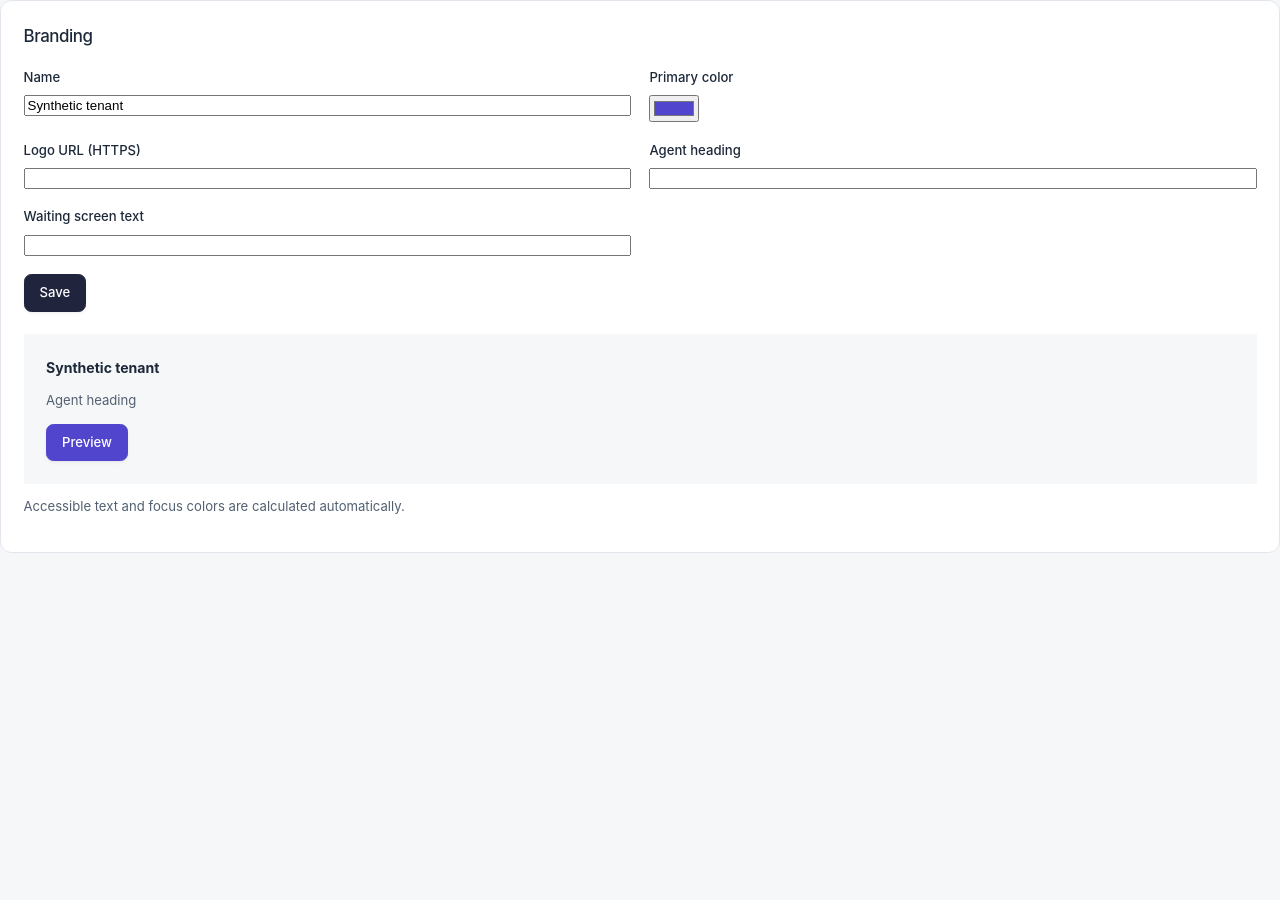
previews branding and validates URL and color settings before saving
Replace the text in the field labelled "Name" with "Synthetic brand" at {"x": 327, "y": 105}, box x1=24 y1=95 x2=631 y2=116
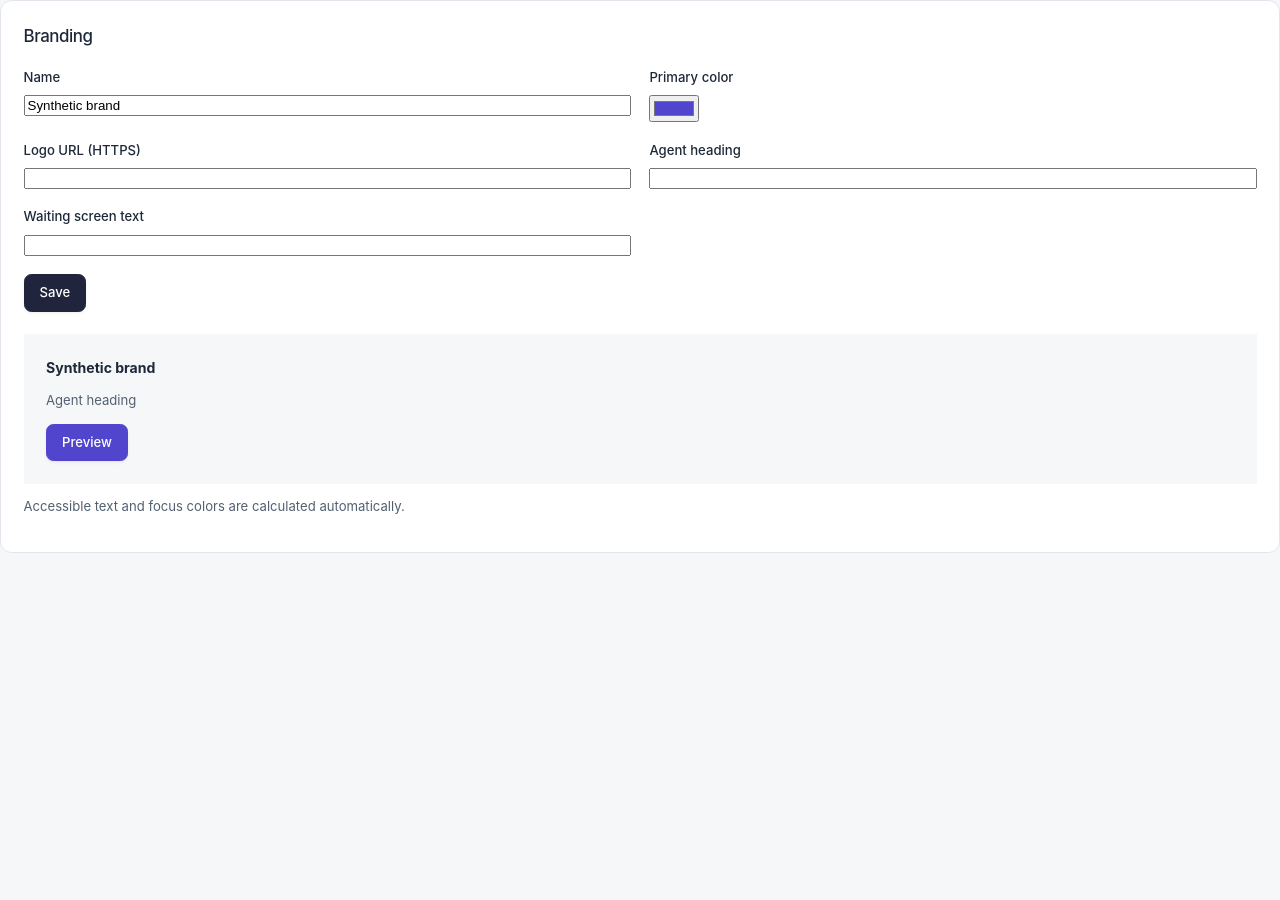
Type "#123456" into the colour field labelled "Primary color" at {"x": 674, "y": 108}, box x1=649 y1=95 x2=699 y2=122
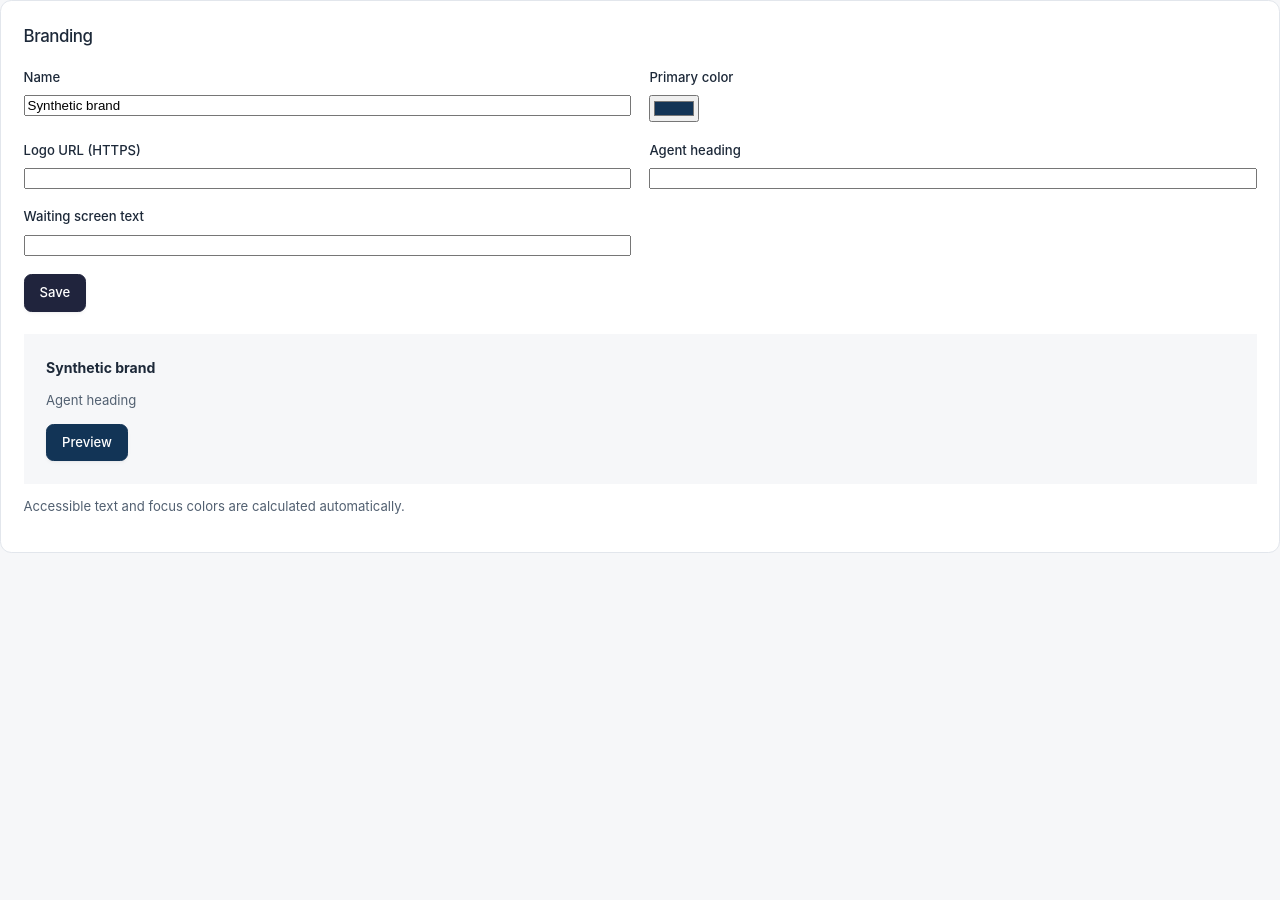
Type "https://assets.example.test/synthetic.svg" into the field labelled "Logo URL (HTTPS)" at {"x": 327, "y": 178}, box x1=24 y1=168 x2=631 y2=189
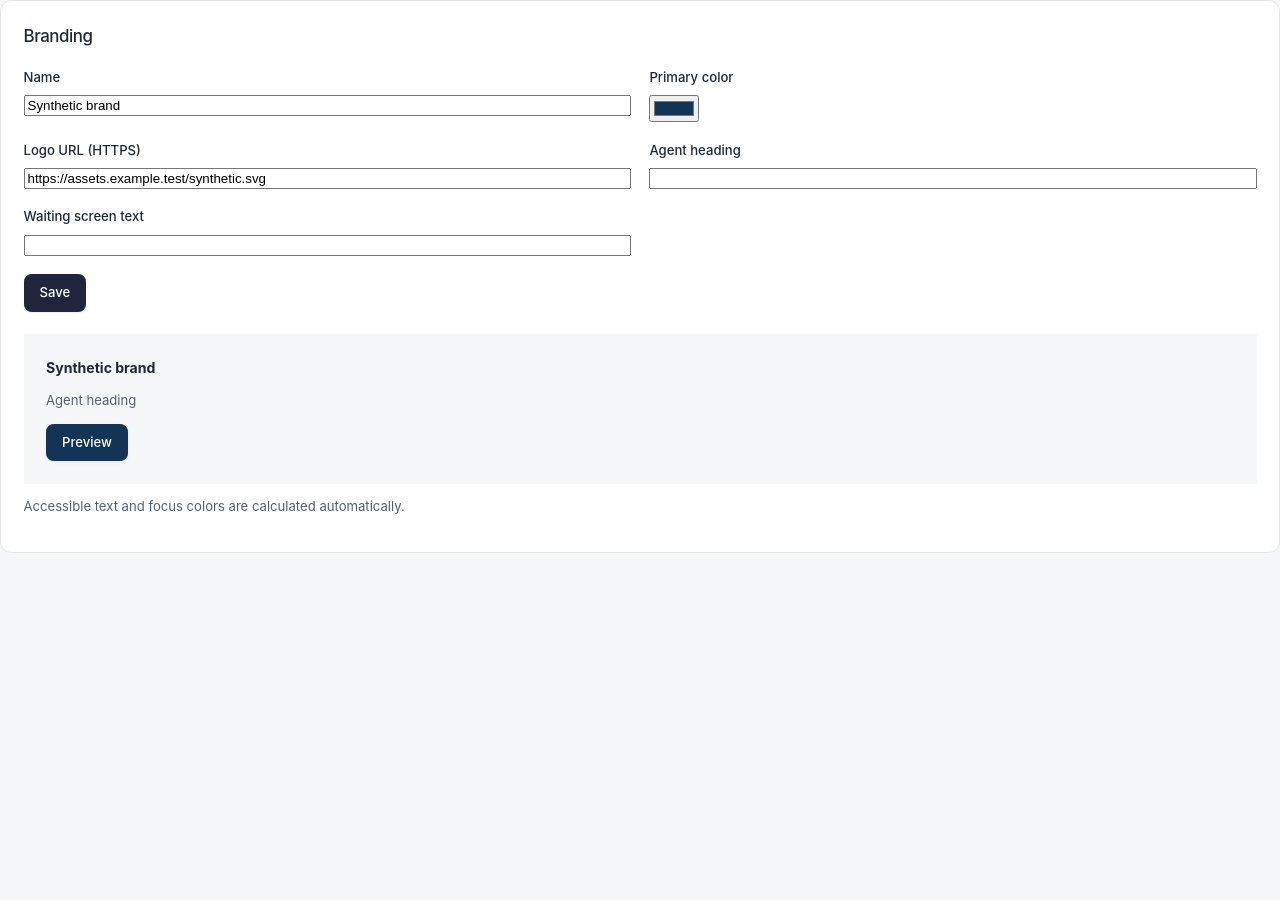
Type "Synthetic agent" into the field labelled "Agent heading" at {"x": 953, "y": 178}, box x1=649 y1=168 x2=1256 y2=189
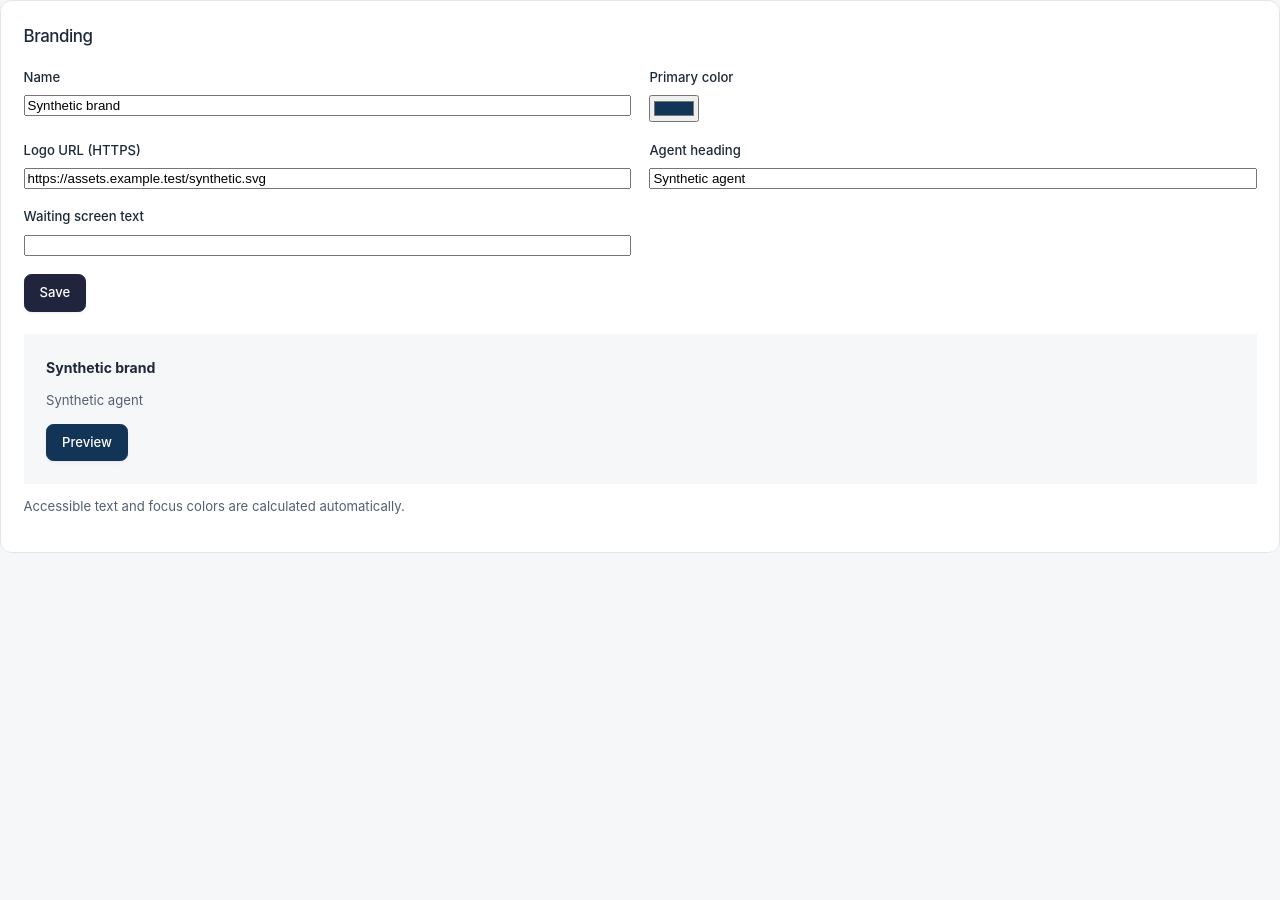
Type "Synthetic waiting" into the field labelled "Waiting screen text" at {"x": 327, "y": 245}, box x1=24 y1=235 x2=631 y2=256
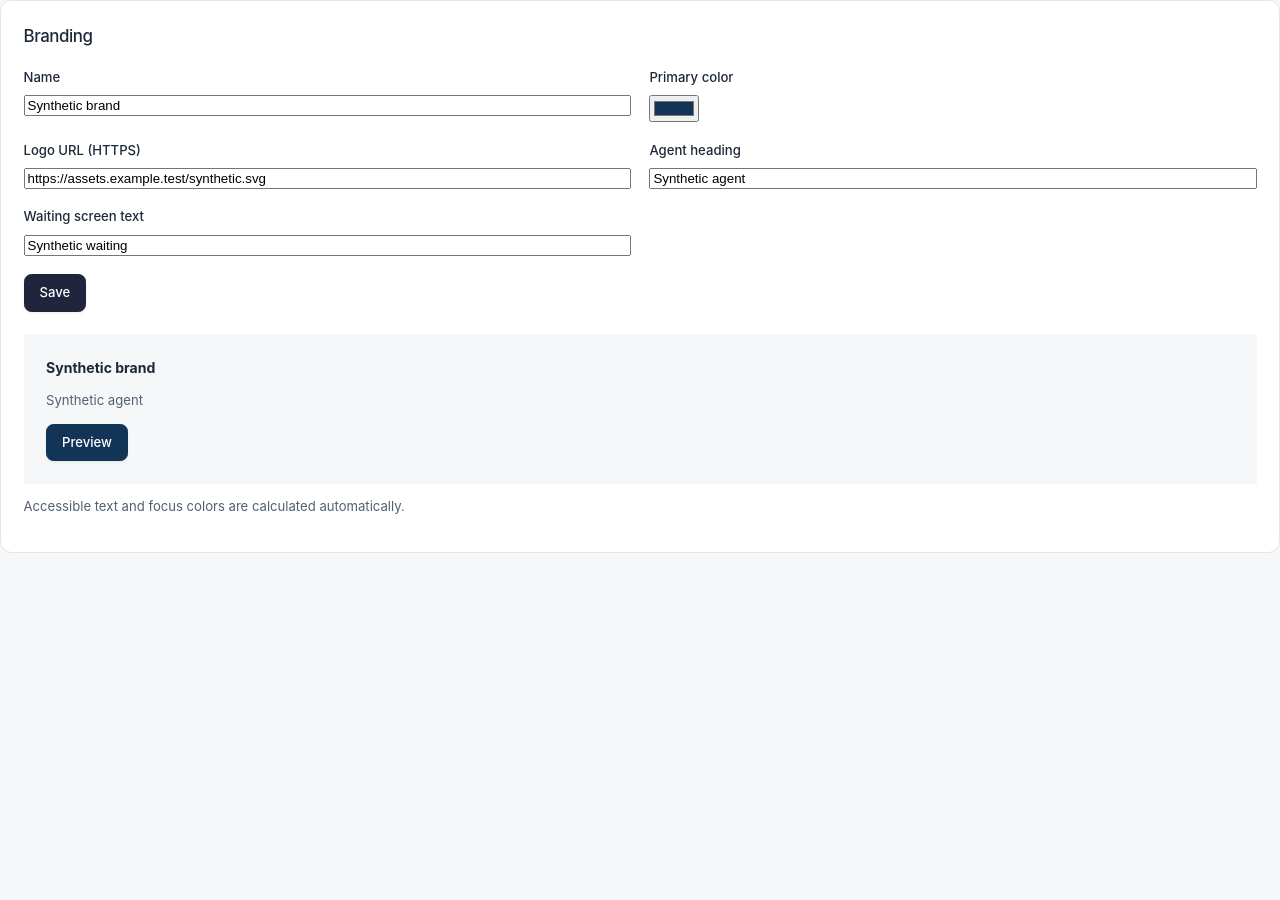
Now the text "Synthetic brand" is shown, box x1=46 y1=359 x2=155 y2=376
Submit the form labelled "Name", box x1=24 y1=68 x2=1256 y2=312
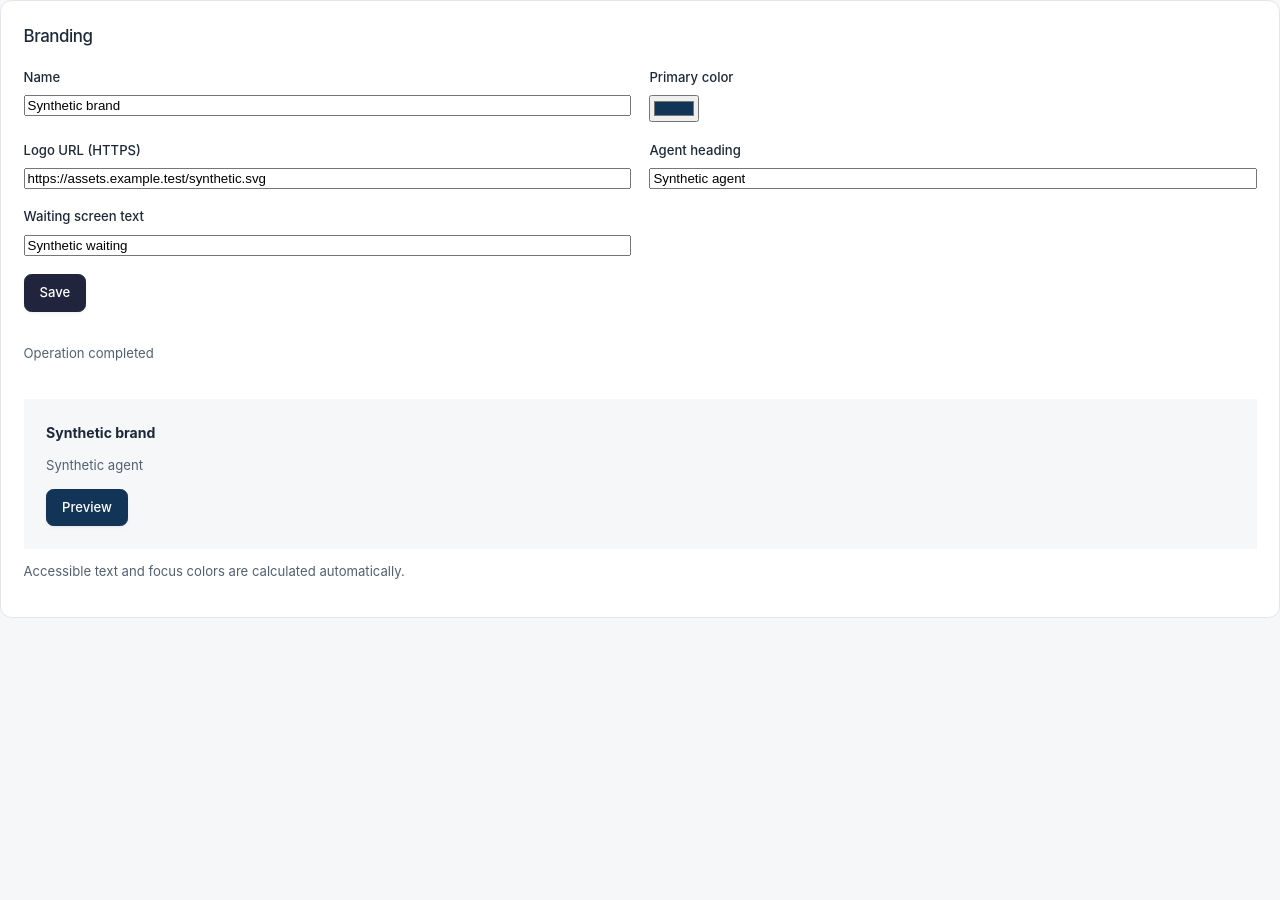
Now the text "Operation completed" is shown, box x1=24 y1=345 x2=154 y2=361
